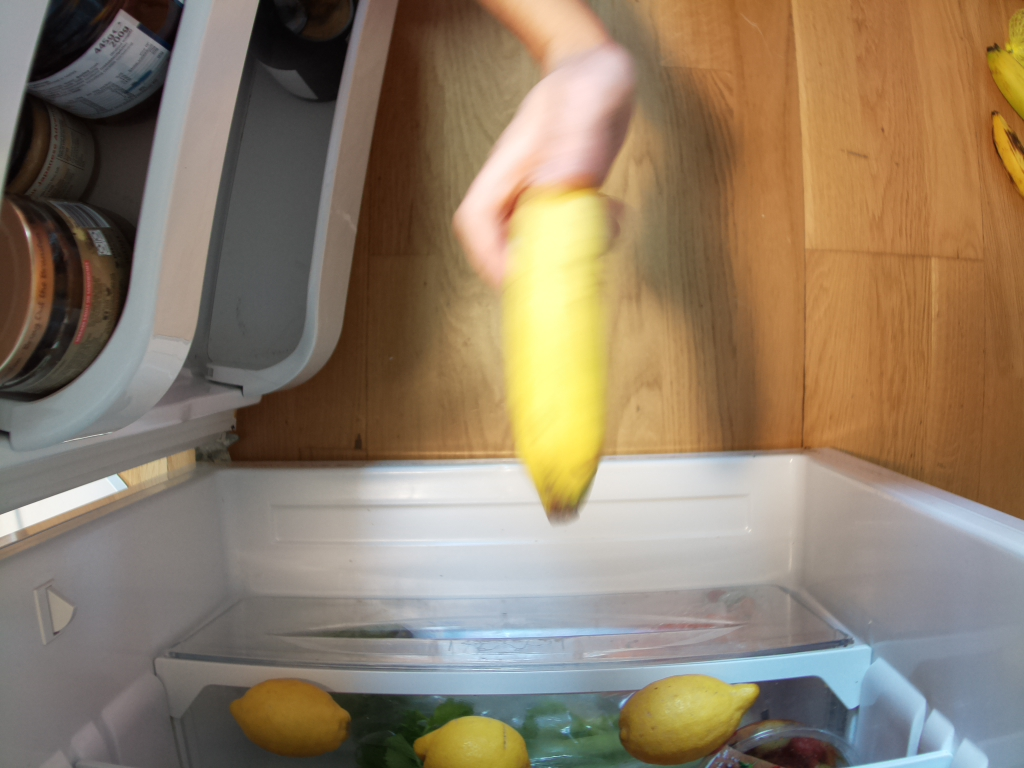banana: (503, 177, 615, 519)
